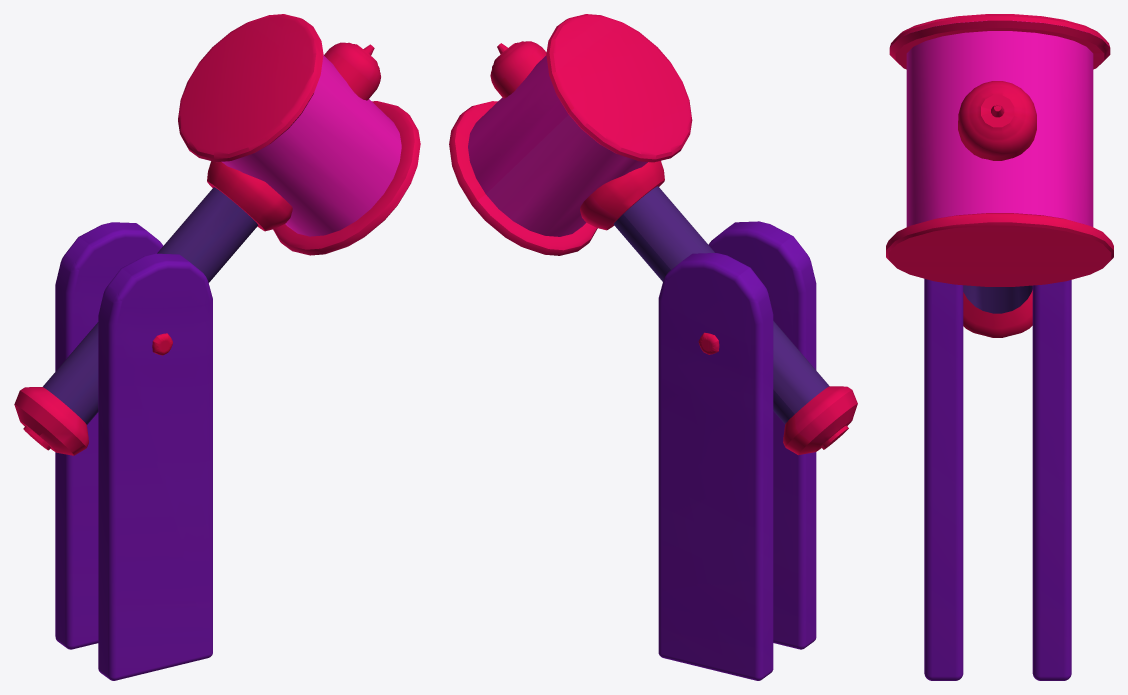
File: hammer.fbx
The picture shows the model from 3 angles, left to right: view 1: azimuth 30°, elevation 25°; view 2: azimuth 150°, elevation 25°; view 3: azimuth 270°, elevation 25°; orthographic projection. The views are drawn at different scales.
Visible parts, largest first — view 1: Hammer main, hammer; view 2: Hammer main, hammer; view 3: hammer, Hammer main.
Boxes of the visible parts, x1=… form: Hammer main: x1=55, y1=222, x2=212, y2=680; hammer: x1=14, y1=14, x2=420, y2=455; Hammer main: x1=658, y1=221, x2=816, y2=680; hammer: x1=449, y1=14, x2=857, y2=455; hammer: x1=886, y1=14, x2=1113, y2=337; Hammer main: x1=924, y1=278, x2=1071, y2=680.
Bounding box in the file's own units: 634 × 923 × 257.
